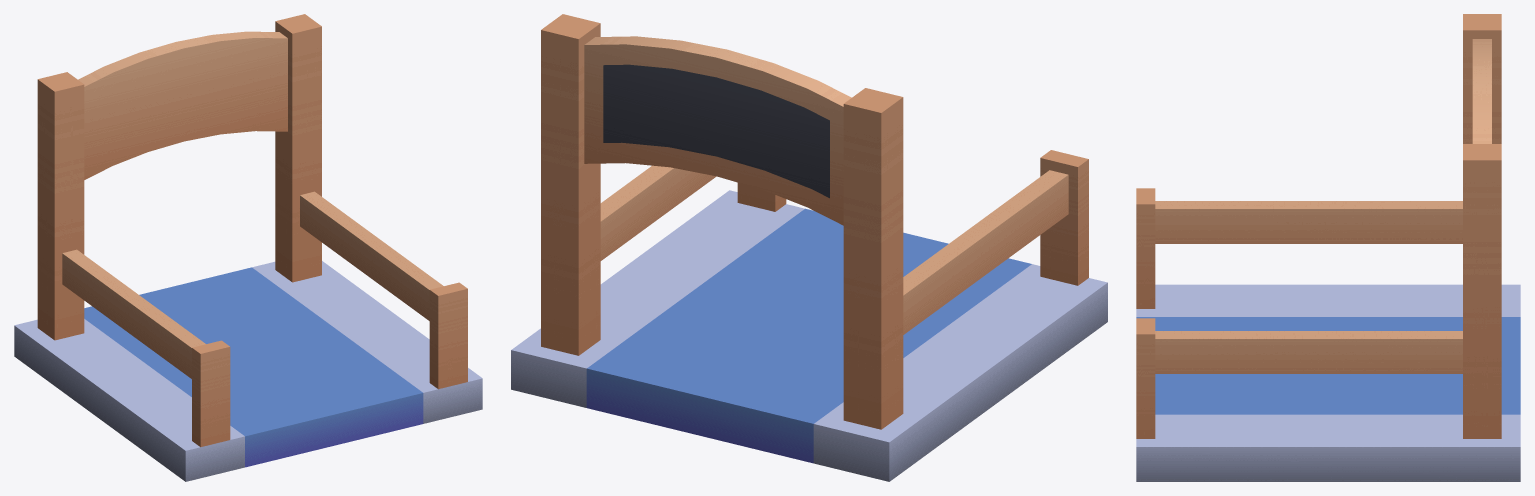
File: queue-entrance.glb
The picture shows the model from 3 angles, left to right: view 1: azimuth 30°, elevation 25°; view 2: azimuth 150°, elevation 25°; view 3: azimuth 270°, elevation 25°; orthographic projection. The views are drawn at different scales.
Parts seen in each view (by area): view 1: queue-entrance; view 2: queue-entrance; view 3: queue-entrance.
Part boxes in pixels (x1,y1,x2,y2): queue-entrance: (14, 14, 482, 481); queue-entrance: (511, 14, 1107, 481); queue-entrance: (1136, 14, 1520, 481).
Bounding box in the file's own units: 1 × 0.925 × 1.
Materials: 1 (1 with a texture image).
